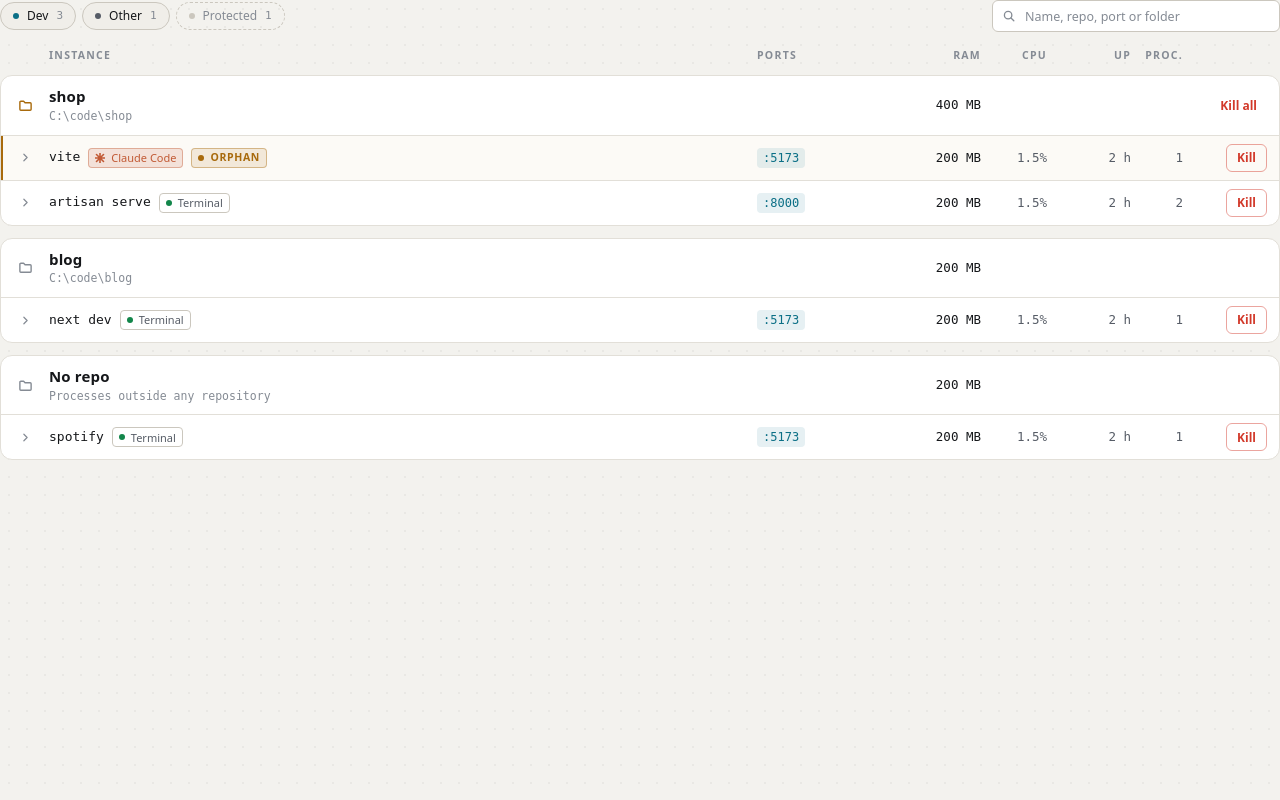
Test: ProjectsView › does nothing when the confirmation is cancelled
Click the button with aria-label "Kill vite". click: (1246, 158)
box: [1226, 144, 1267, 172]
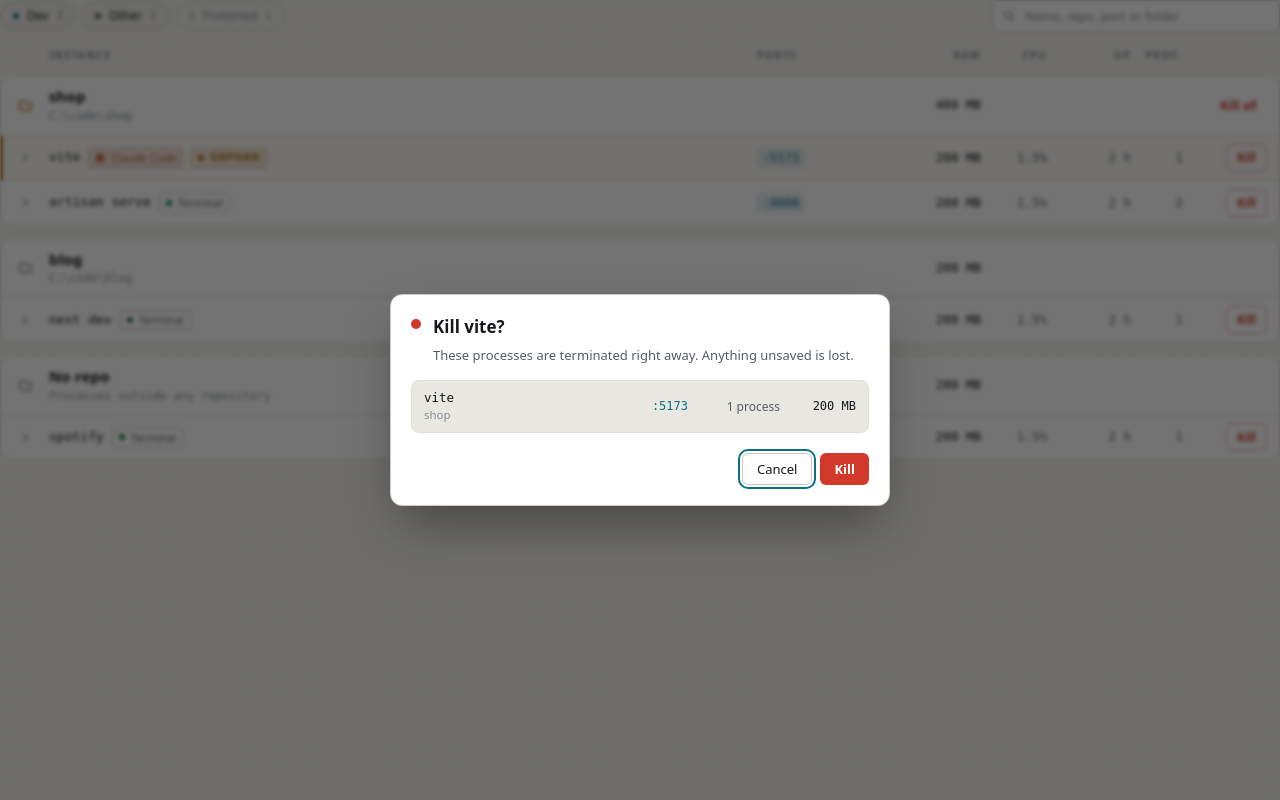
Click the button "Cancel". click: (777, 469)
box: [742, 453, 812, 485]
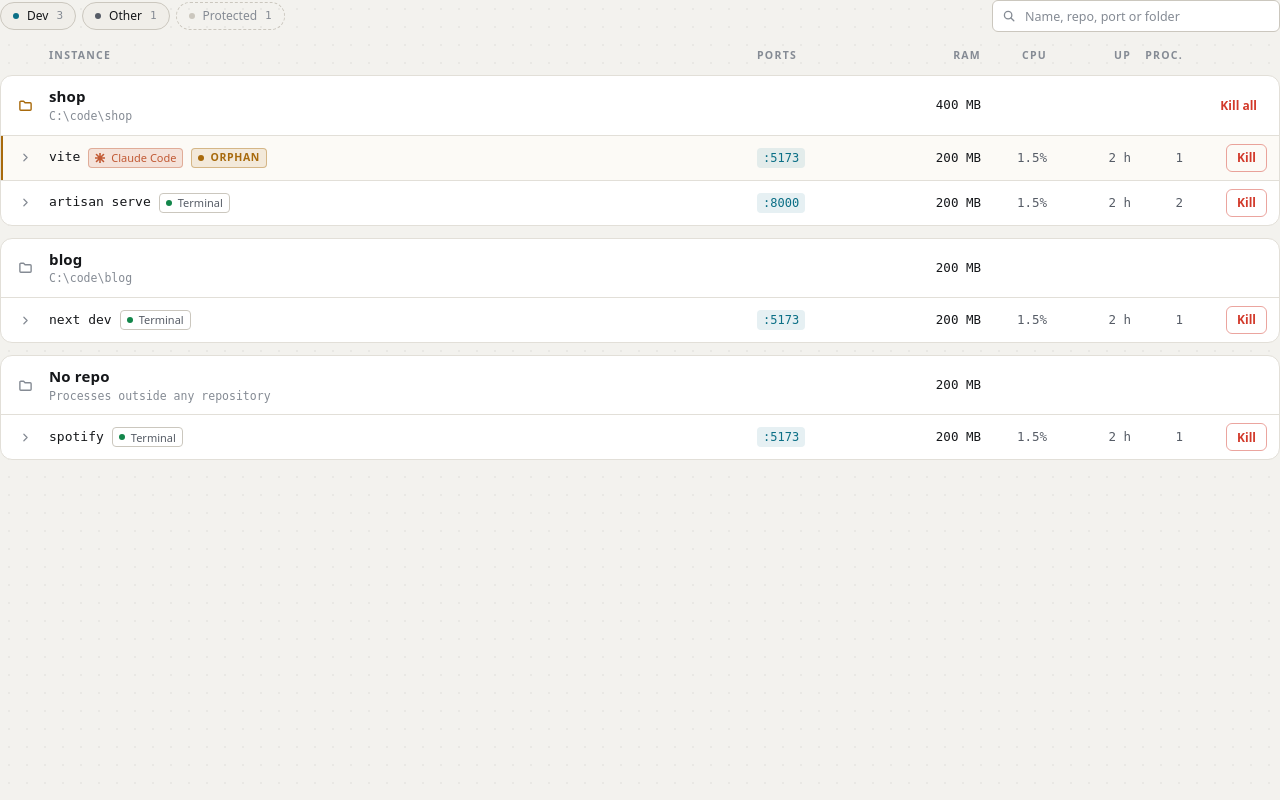
Expected: the dialog is gone
